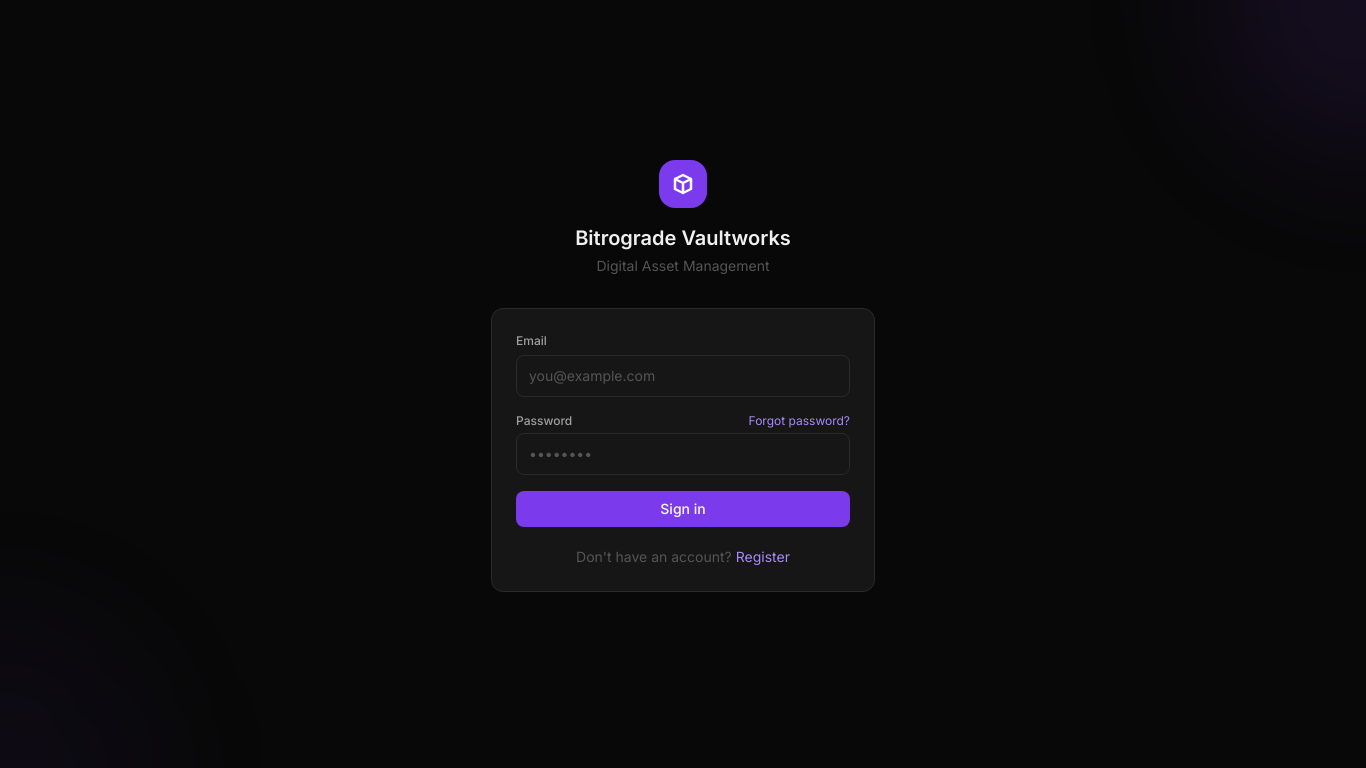
Test: LoginPage › displays API error message on failed login
This screenshot has width=1366, height=768.
In the field with placeholder "you@example.com": {"x": 683, "y": 376} [516,355,850,397], type "bad@example.com"
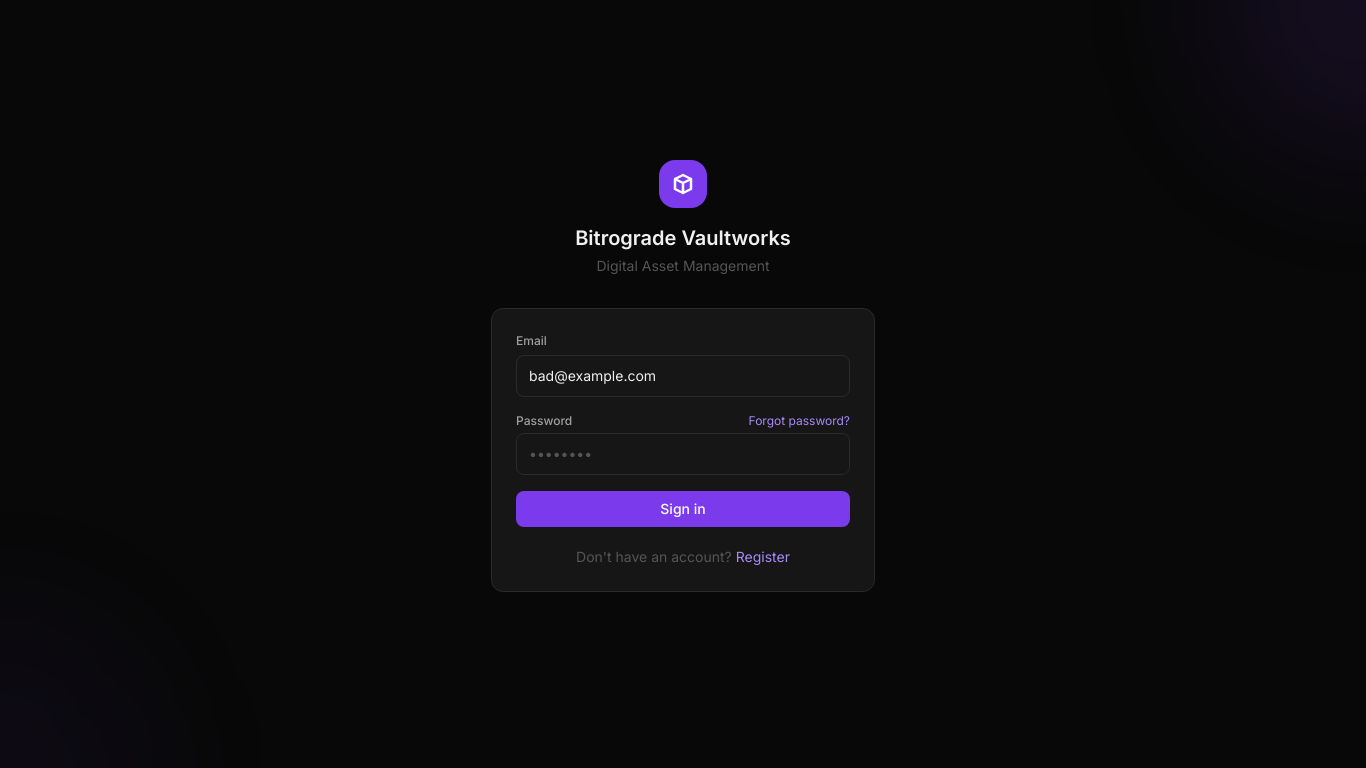
In the password field with placeholder "••••••••": {"x": 683, "y": 454} [516,433,850,475], type "wrongpass"
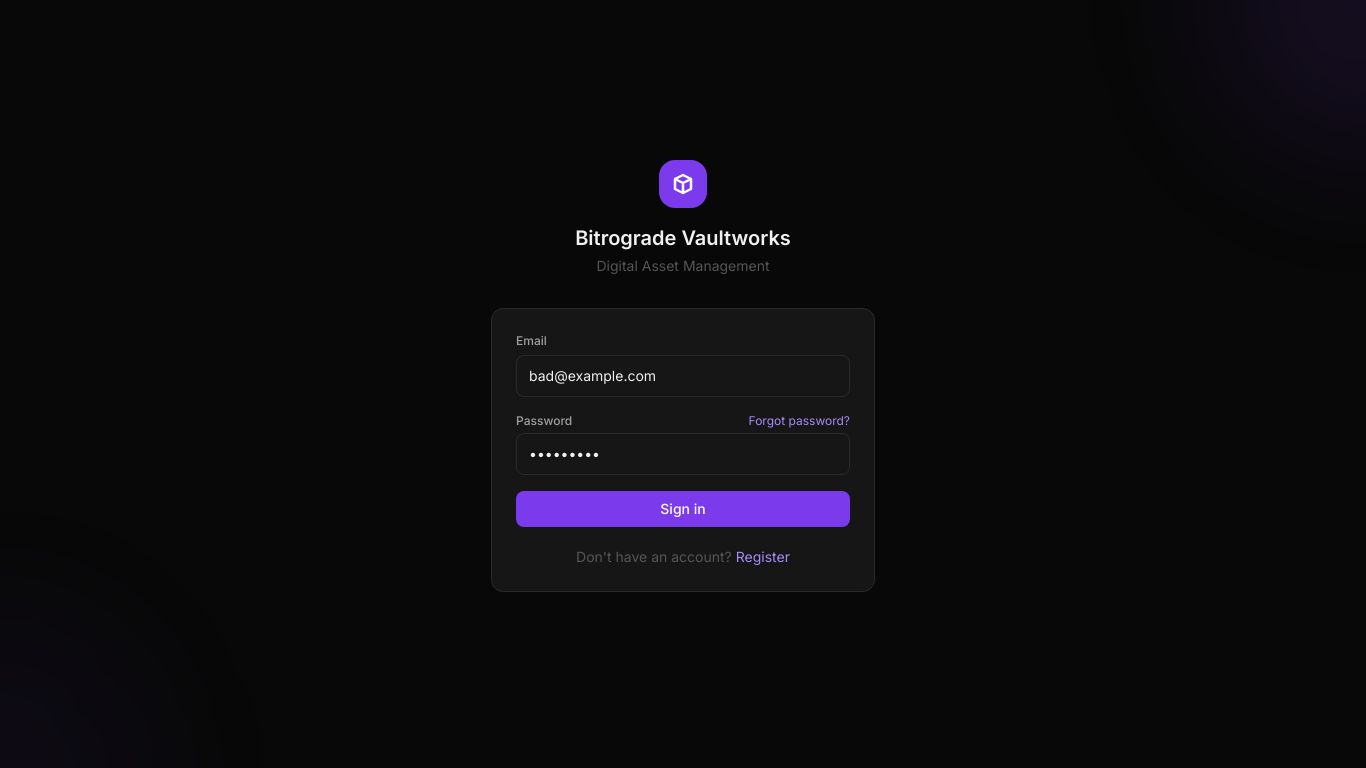
Submit the form, box [516,333,850,527]
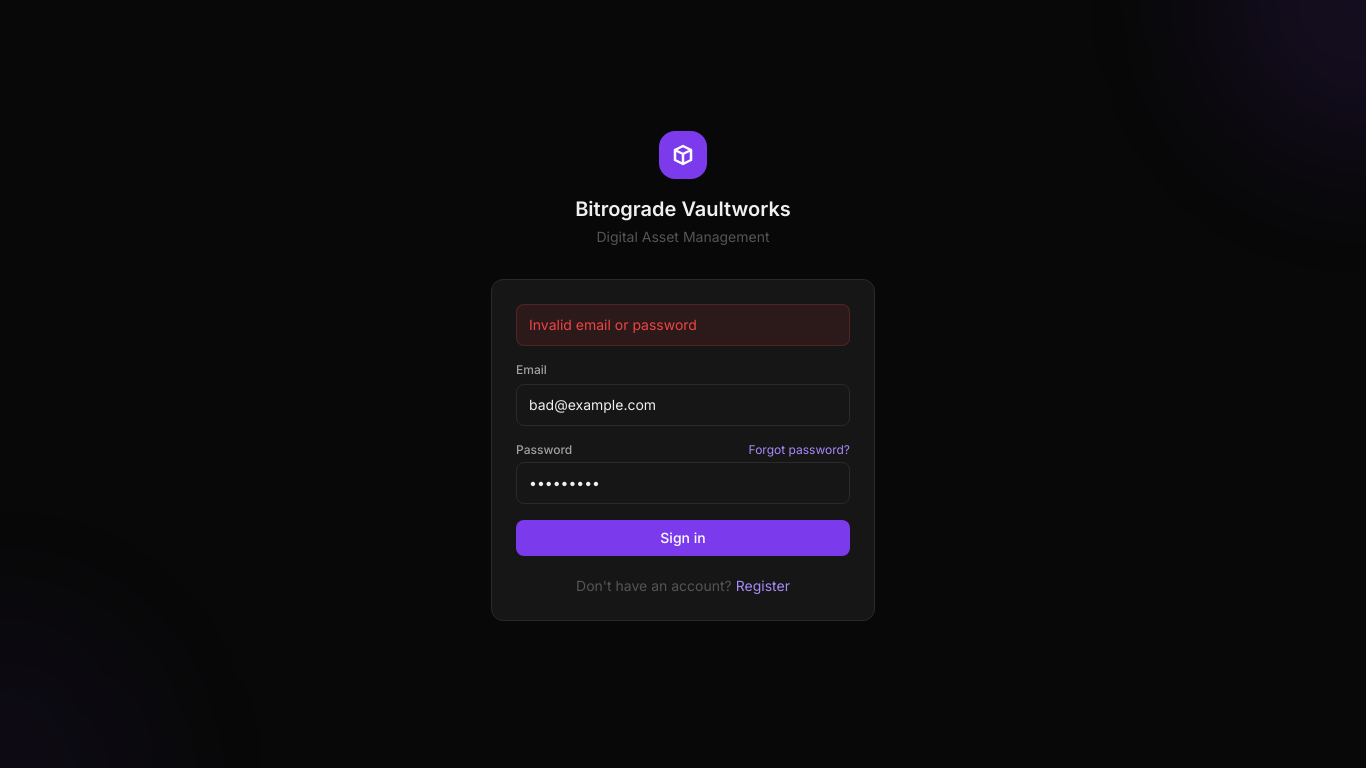
Result: the text "Invalid email or password" is shown at [516,304,850,346]
